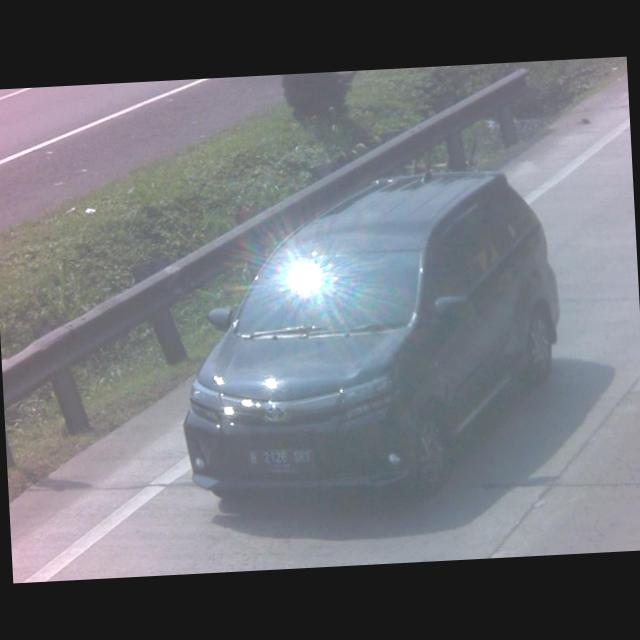plate: (245, 445, 317, 471)
